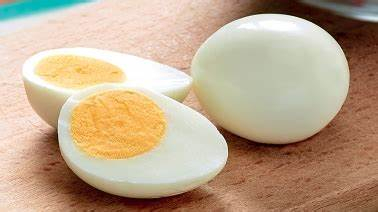egg: (187, 10, 354, 151), (55, 78, 232, 200), (13, 41, 194, 151)
